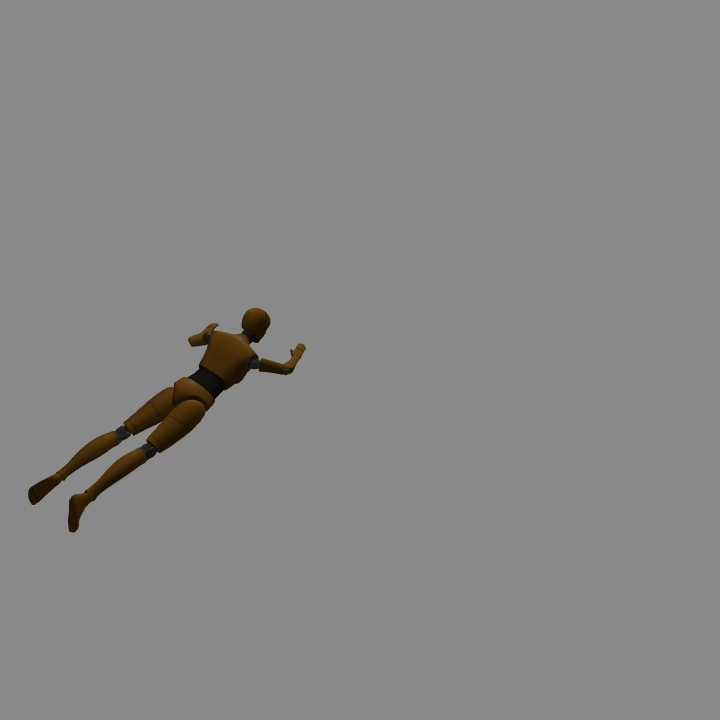victim: (40, 309, 308, 522)
